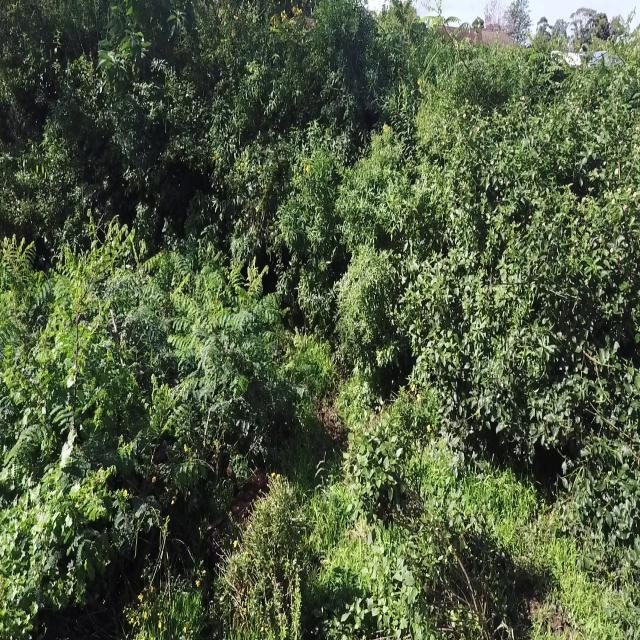Mysore-Thorn-Weed: (8, 423, 123, 549), (49, 240, 101, 441), (218, 260, 279, 423), (178, 241, 219, 417), (113, 241, 168, 345), (0, 235, 38, 342)
